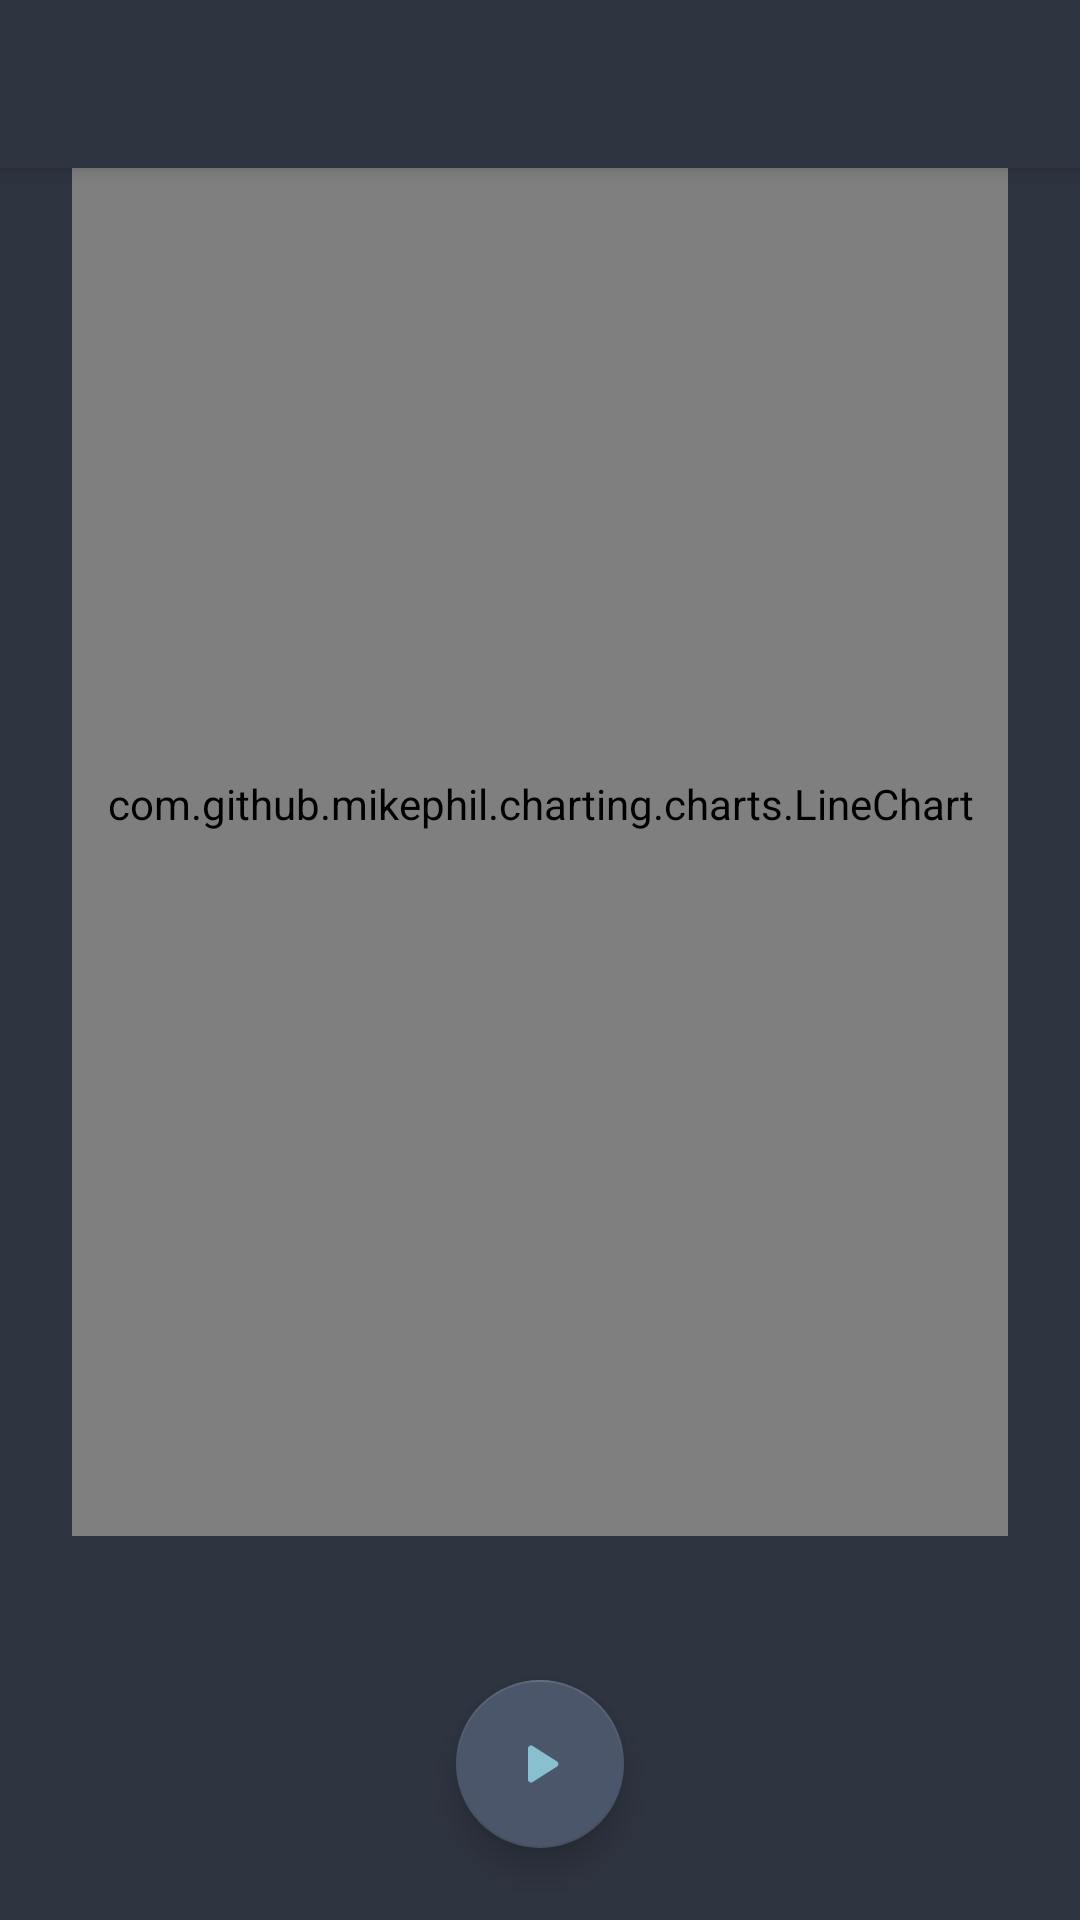

Where to tap for icons on this 1080×1920 app screen, as point (x, y):
play: point (540, 1764)
